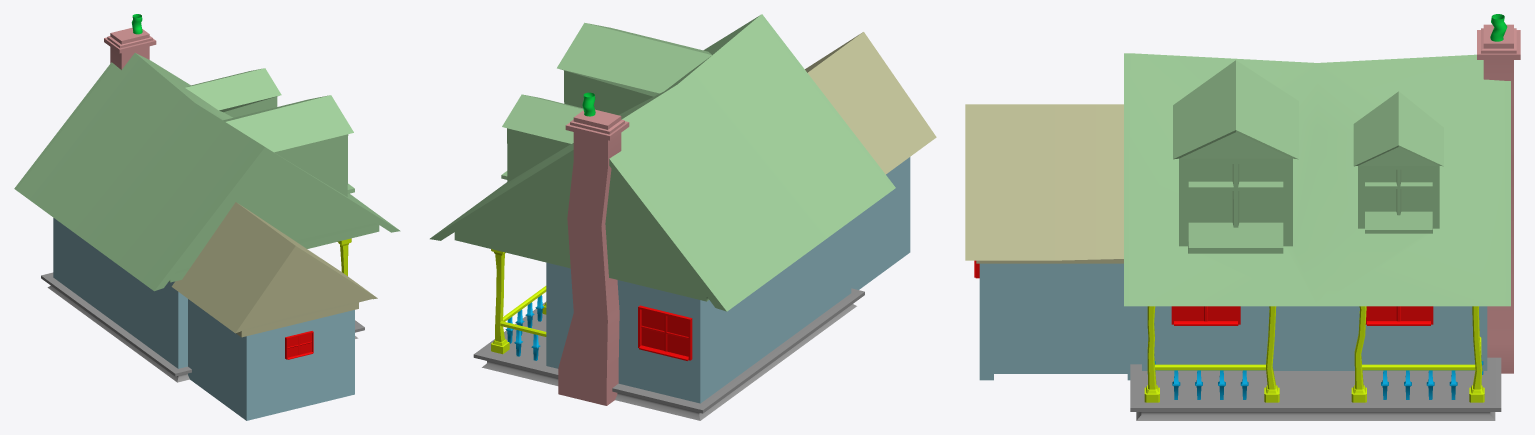
The model's file is house fbx.FBX.
3 renders of one model, left to right at view 1: azimuth 30°, elevation 25°; view 2: azimuth 150°, elevation 25°; view 3: azimuth 270°, elevation 25°, orthographic. The views are drawn at different scales.
Visible parts, largest first — view 1: Box002, Box001, Box003, Box009, Box008, Box029; view 2: Box002, Box001, Box008, Box003, Box009, Box028, Box007; view 3: Box002, Box001, Box003, Box009, Box008, Box027, Box026, Box004, Box006, Box005, Box007, Box012 (+1 smaller).
Boxes of the visible parts, <box> form: Box002: <box>14,53,400,291</box>; Box001: <box>53,218,354,420</box>; Box003: <box>171,202,377,337</box>; Box009: <box>41,272,364,382</box>; Box008: <box>104,27,156,69</box>; Box029: <box>285,331,313,359</box>; Box002: <box>430,14,895,311</box>; Box001: <box>546,157,910,403</box>; Box008: <box>558,109,629,405</box>; Box003: <box>805,32,936,174</box>; Box009: <box>473,288,864,420</box>; Box028: <box>638,305,692,360</box>; Box007: <box>491,249,509,354</box>; Box002: <box>1124,53,1510,306</box>; Box001: <box>979,263,1487,380</box>; Box003: <box>965,104,1123,263</box>; Box009: <box>1130,357,1501,420</box>; Box008: <box>1477,24,1520,373</box>; Box027: <box>1171,306,1240,325</box>; Box026: <box>1365,306,1433,325</box>; Box004: <box>1144,306,1159,402</box>; Box006: <box>1351,306,1366,402</box>; Box005: <box>1264,306,1279,402</box>; Box007: <box>1469,306,1484,402</box>; Box012: <box>1362,364,1475,370</box>.
Size of the model in its own units: 897 by 864 by 1267.
